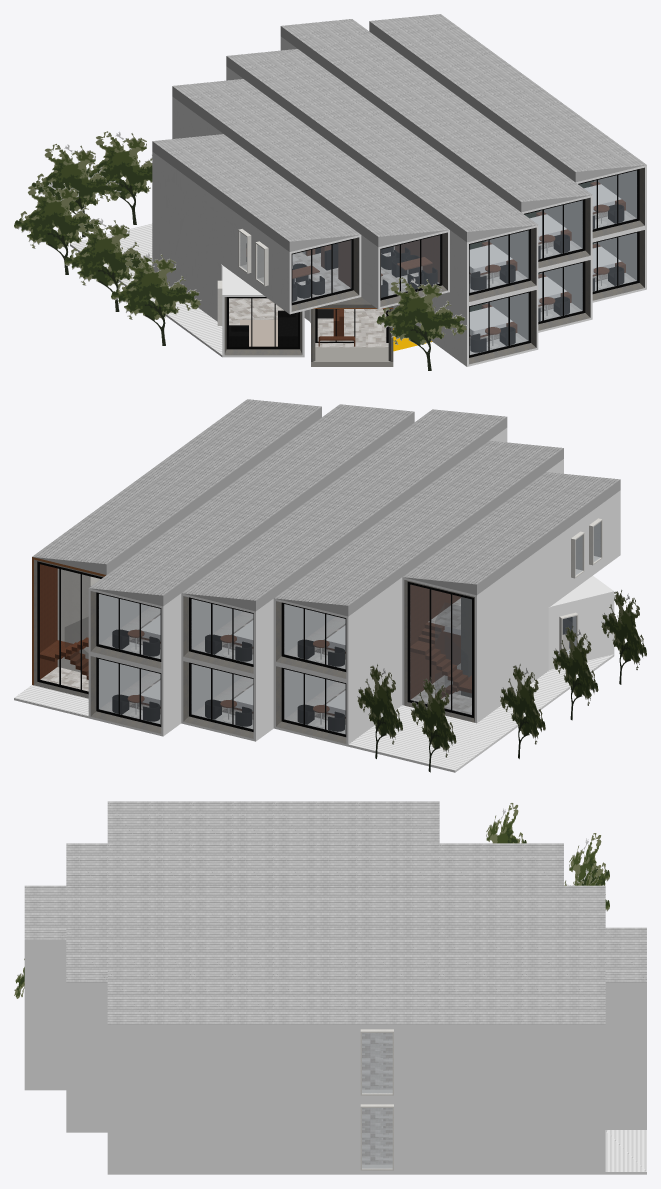
File: 文旅民宿12间（包豪斯-渲染-贴图）.obj
The picture shows the model from 3 angles, top to bottom: view 1: azimuth 30°, elevation 25°; view 2: azimuth 150°, elevation 25°; view 3: azimuth 270°, elevation 25°; orthographic projection. The views are drawn at different scales.
Parts seen in each view (by area): view 1: Mesh937 Component_85_6 Component_86_6 G_2D_TREE6 Group1 Model, Mesh927 Component_85_1 Component_86_1 G_2D_TREE1 Group1 Model, Mesh222 Group199 Group198 Group196 Group1 Model, Mesh933 Component_85_4 Component_86_4 G_2D_TREE4 Group1 Model, Mesh359 Group343 ___1_2 Group1 Model, Mesh935 Component_85_5 Component_86_5 G_2D_TREE5 Group1 Model, Mesh723 Group728 ___1_9 Group1 Model, Mesh226 Group204 Group198 Group196 Group1 Model, Mesh931 Component_85_3 Component_86_3 G_2D_TREE3 Group1 Model, Mesh405 Group392 ___1_2 Group1 Model, Mesh769 Group777 ___1_9 Group1 Model, Mesh67 Group81 Group80 Group78 Group1 Model (+94 smaller); view 2: Mesh264 Group248 Group214 Group1 Model, Mesh297 Group278 Group1 Model, Mesh237 Group218 Group214 Group1 Model, Mesh411 Group398 ___1_3 Group1 Model, Mesh619 Group618 ___1_7 Group1 Model, Mesh307 Group288 ___1_1 Group1 Model, Mesh827 Group838 ___1_11 Group1 Model, Mesh567 Group563 ___1_6 Group1 Model, Mesh775 Group783 ___1_10 Group1 Model, Mesh235 Group216 Group214 Group1 Model, Mesh128 Group144 Group140 Group1 Model, Mesh613 Group612 ___1_6 Group1 Model (+100 smaller); view 3: Mesh126 Group142 Group140 Group1 Model, Mesh128 Group144 Group140 Group1 Model, Mesh155 Group174 Group140 Group1 Model, Mesh877 Group891 ___1_12 Group1 Model, Mesh879 Group893 ___1_12 Group1 Model, Mesh359 Group343 ___1_2 Group1 Model, Mesh461 Group451 ___1_4 Group1 Model, Mesh463 Group453 ___1_4 Group1 Model, Mesh723 Group728 ___1_9 Group1 Model, Mesh154 Group173 Group140 Group1 Model, Mesh156 Group175 Group140 Group1 Model, Mesh157 Group176 Group140 Group1 Model (+84 smaller).
Boxes of the visible parts, x1=… form: Mesh937 Component_85_6 Component_86_6 G_2D_TREE6 Group1 Model: x1=111, y1=252, x2=201, y2=345; Mesh927 Component_85_1 Component_86_1 G_2D_TREE1 Group1 Model: x1=376, y1=277, x2=467, y2=370; Mesh222 Group199 Group198 Group196 Group1 Model: x1=272, y1=235, x2=361, y2=314; Mesh933 Component_85_4 Component_86_4 G_2D_TREE4 Group1 Model: x1=14, y1=181, x2=104, y2=274; Mesh359 Group343 ___1_2 Group1 Model: x1=450, y1=225, x2=538, y2=304; Mesh935 Component_85_5 Component_86_5 G_2D_TREE5 Group1 Model: x1=64, y1=218, x2=154, y2=311; Mesh723 Group728 ___1_9 Group1 Model: x1=450, y1=287, x2=538, y2=366; Mesh226 Group204 Group198 Group196 Group1 Model: x1=292, y1=240, x2=351, y2=302; Mesh931 Component_85_3 Component_86_3 G_2D_TREE3 Group1 Model: x1=31, y1=144, x2=121, y2=237; Mesh405 Group392 ___1_2 Group1 Model: x1=470, y1=230, x2=528, y2=292; Mesh769 Group777 ___1_9 Group1 Model: x1=470, y1=293, x2=528, y2=354; Mesh67 Group81 Group80 Group78 Group1 Model: x1=361, y1=230, x2=449, y2=309; Mesh264 Group248 Group214 Group1 Model: x1=410, y1=584, x2=471, y2=714; Mesh297 Group278 Group1 Model: x1=348, y1=654, x2=614, y2=772; Mesh237 Group218 Group214 Group1 Model: x1=402, y1=577, x2=494, y2=723; Mesh411 Group398 ___1_3 Group1 Model: x1=88, y1=588, x2=181, y2=671; Mesh619 Group618 ___1_7 Group1 Model: x1=88, y1=653, x2=181, y2=736; Mesh307 Group288 ___1_1 Group1 Model: x1=273, y1=598, x2=366, y2=681; Mesh827 Group838 ___1_11 Group1 Model: x1=181, y1=658, x2=273, y2=741; Mesh567 Group563 ___1_6 Group1 Model: x1=181, y1=593, x2=273, y2=676; Mesh775 Group783 ___1_10 Group1 Model: x1=273, y1=663, x2=366, y2=746; Mesh235 Group216 Group214 Group1 Model: x1=424, y1=569, x2=512, y2=709; Mesh128 Group144 Group140 Group1 Model: x1=32, y1=557, x2=105, y2=698; Mesh613 Group612 ___1_6 Group1 Model: x1=191, y1=599, x2=252, y2=663; Mesh126 Group142 Group140 Group1 Model: x1=522, y1=1024, x2=563, y2=1174; Mesh128 Group144 Group140 Group1 Model: x1=564, y1=1024, x2=605, y2=1174; Mesh155 Group174 Group140 Group1 Model: x1=481, y1=1024, x2=522, y2=1174; Mesh877 Group891 ___1_12 Group1 Model: x1=190, y1=1099, x2=232, y2=1174; Mesh879 Group893 ___1_12 Group1 Model: x1=107, y1=1099, x2=149, y2=1174; Mesh359 Group343 ___1_2 Group1 Model: x1=24, y1=940, x2=66, y2=1015; Mesh461 Group451 ___1_4 Group1 Model: x1=190, y1=1024, x2=232, y2=1099; Mesh463 Group453 ___1_4 Group1 Model: x1=107, y1=1024, x2=149, y2=1099; Mesh723 Group728 ___1_9 Group1 Model: x1=24, y1=1015, x2=66, y2=1090; Mesh154 Group173 Group140 Group1 Model: x1=439, y1=1099, x2=480, y2=1174; Mesh156 Group175 Group140 Group1 Model: x1=398, y1=1099, x2=439, y2=1174; Mesh157 Group176 Group140 Group1 Model: x1=398, y1=1024, x2=439, y2=1099.
Bounding box in the file's own units: 23341 × 6500 × 22889.
25 materials, 16 textured.
